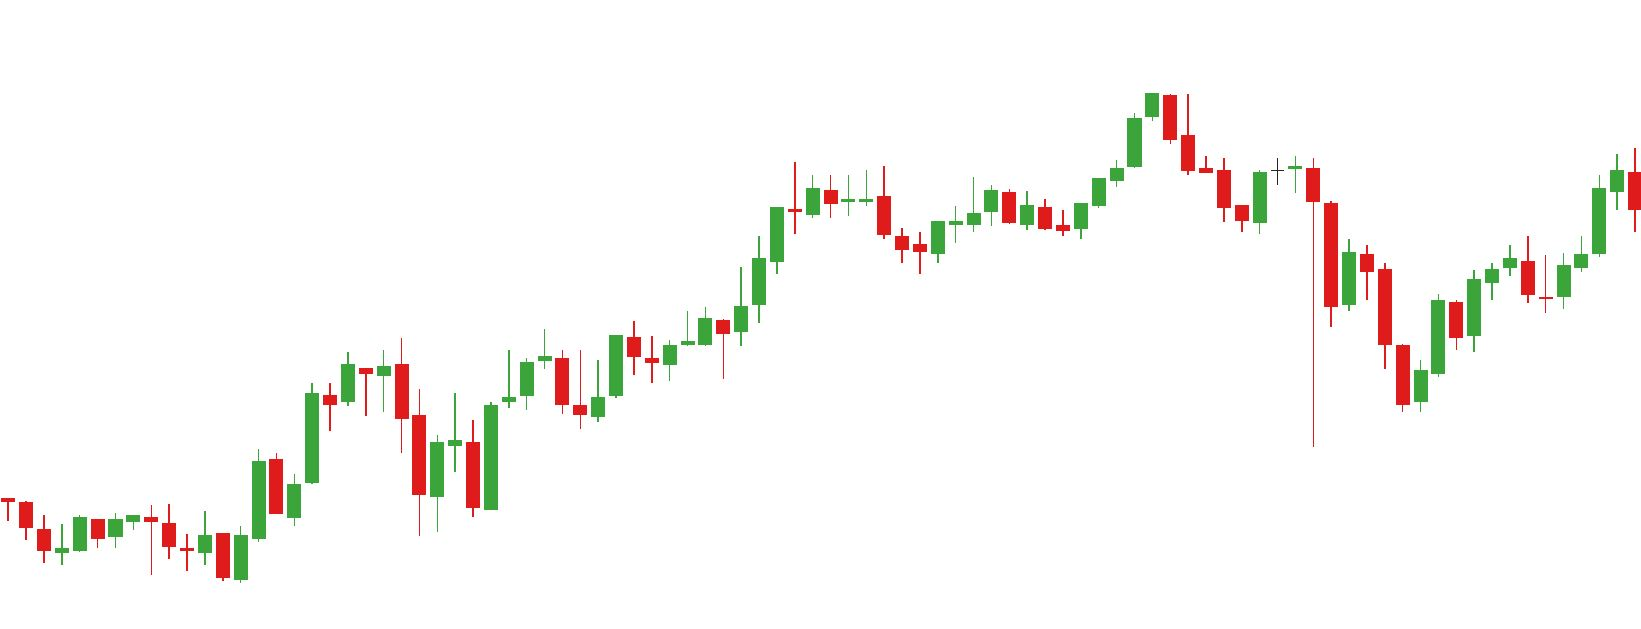buy: (288, 384, 446, 541)
